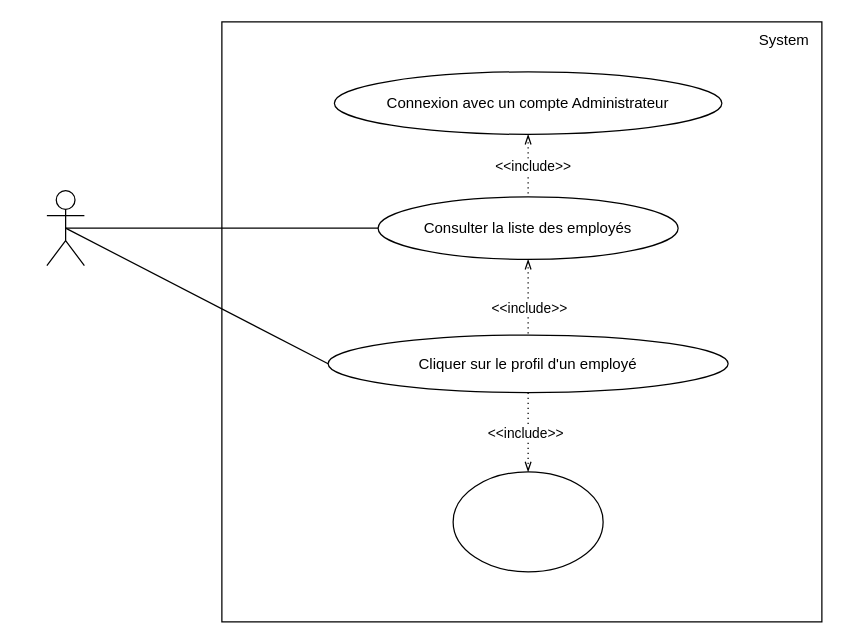
The diagram is 844 pixels wide and 644 high, and some of its shapes have lost their labels. The centre of each missing label's shape, as x and y in pixels:
"Historique des comptes rendus" belongs at point (527, 521).
"Responsable" belongs at point (65, 227).
